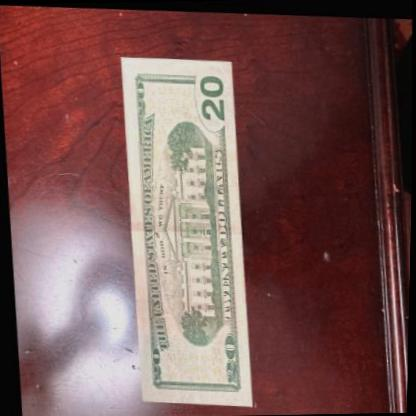dollar_back: (113, 52, 255, 406)
